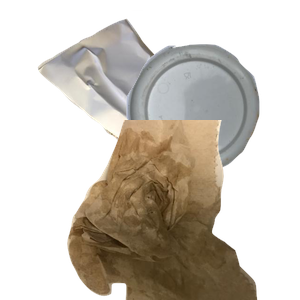glass: (96, 190, 230, 300)
paper: (35, 10, 237, 178)
plastic: (124, 42, 300, 210)
trash: (65, 120, 300, 300)
